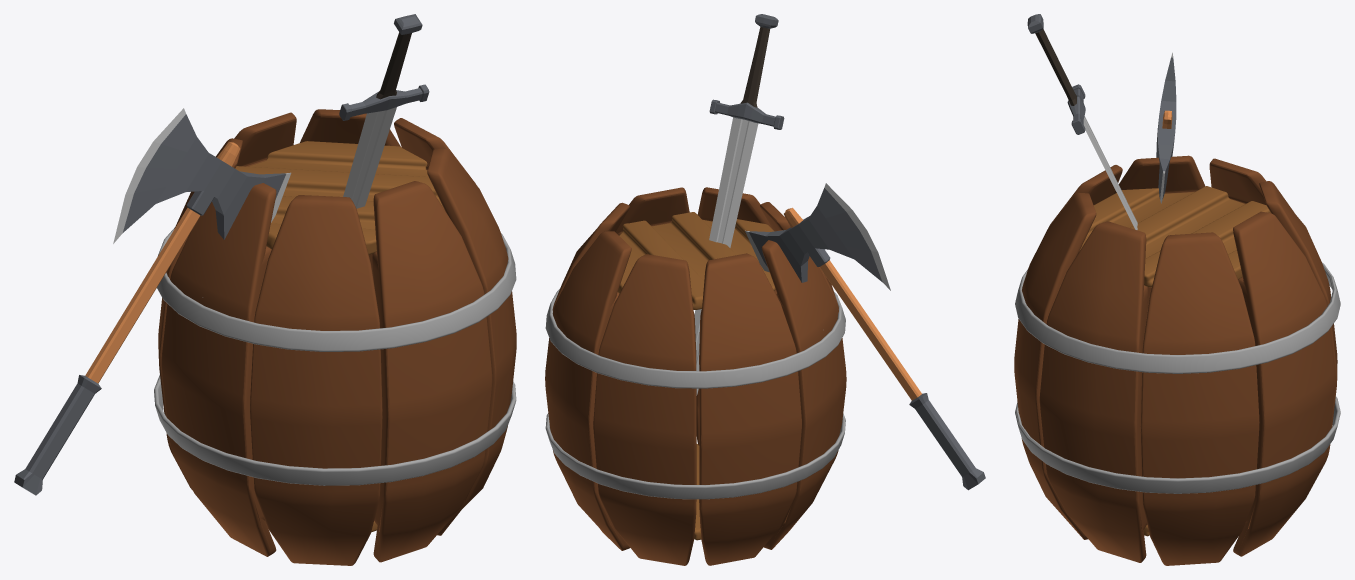
Rendered from barriles2.fbx.
The picture shows the model from 3 angles, left to right: view 1: azimuth 30°, elevation 25°; view 2: azimuth 150°, elevation 25°; view 3: azimuth 270°, elevation 25°; orthographic projection. The views are drawn at different scales.
Parts seen in each view (by area): view 1: Two handed sword v:315 f:298.001; view 2: Two handed sword v:315 f:298.001; view 3: Two handed sword v:315 f:298.001.
Part boxes in pixels (left/top/right/bottom): Two handed sword v:315 f:298.001: left=14, top=14, right=516, bottom=565; Two handed sword v:315 f:298.001: left=545, top=14, right=985, bottom=565; Two handed sword v:315 f:298.001: left=1014, top=14, right=1340, bottom=565.
Size of the model in its own units: 309 by 339 by 200.
